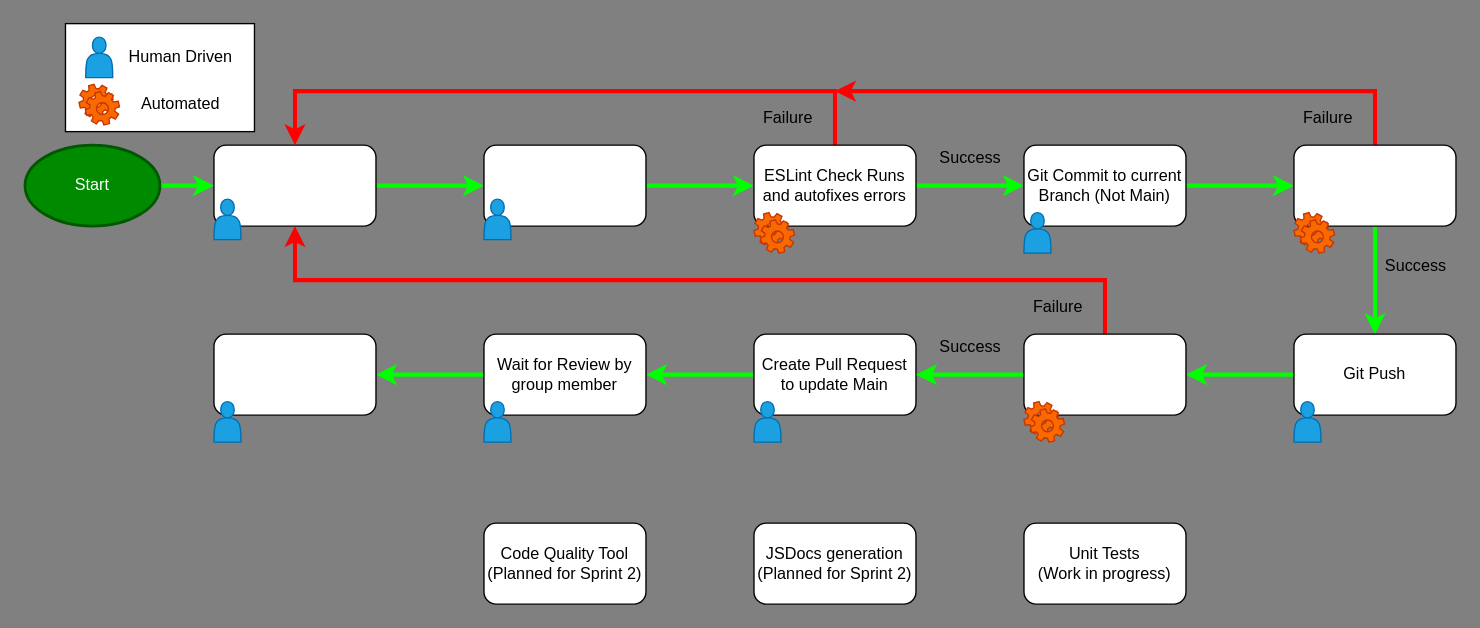
The diagram is 1480 pixels wide and 628 high, and some of its shapes have lost their labels. Each missing label, with the box of its shape:
Code on Local: (213, 144, 376, 226)
Linting checked again via Github Actions: (1023, 333, 1186, 415)
Merge with Main: (213, 333, 376, 415)
Pre-commit hook checks linting again: (1293, 144, 1456, 226)
Save Local File: (483, 144, 646, 226)
